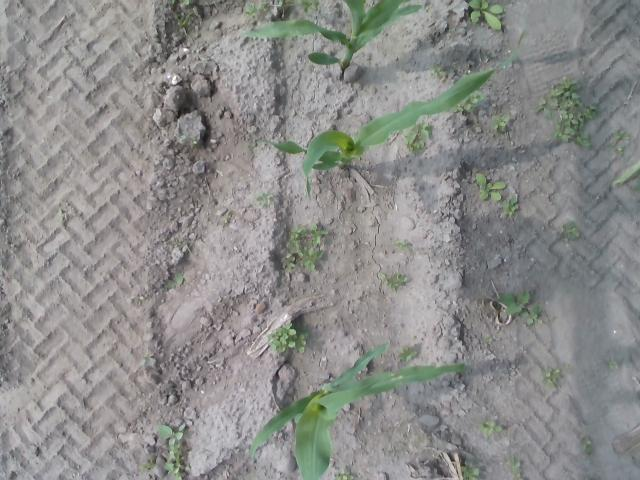Maize: (242, 31, 526, 203), (248, 341, 466, 478), (237, 0, 422, 79)
Weeds: (532, 79, 598, 149), (283, 223, 331, 276), (153, 424, 195, 478), (499, 290, 546, 327), (269, 318, 312, 358), (468, 1, 506, 32), (474, 174, 504, 204), (408, 122, 436, 154), (239, 1, 291, 16), (378, 272, 413, 291), (608, 130, 632, 156), (175, 130, 202, 152), (252, 185, 274, 210), (491, 112, 516, 134), (172, 11, 200, 30), (542, 364, 562, 390), (161, 270, 188, 289), (560, 221, 582, 244), (460, 460, 485, 480), (503, 194, 522, 220), (478, 419, 504, 438), (394, 236, 416, 257), (300, 1, 322, 20), (55, 198, 71, 222), (217, 210, 236, 230), (506, 458, 526, 476), (464, 92, 484, 110), (334, 466, 355, 480), (138, 355, 157, 368), (580, 437, 595, 453), (431, 66, 446, 82), (484, 332, 499, 346), (606, 360, 620, 374)
